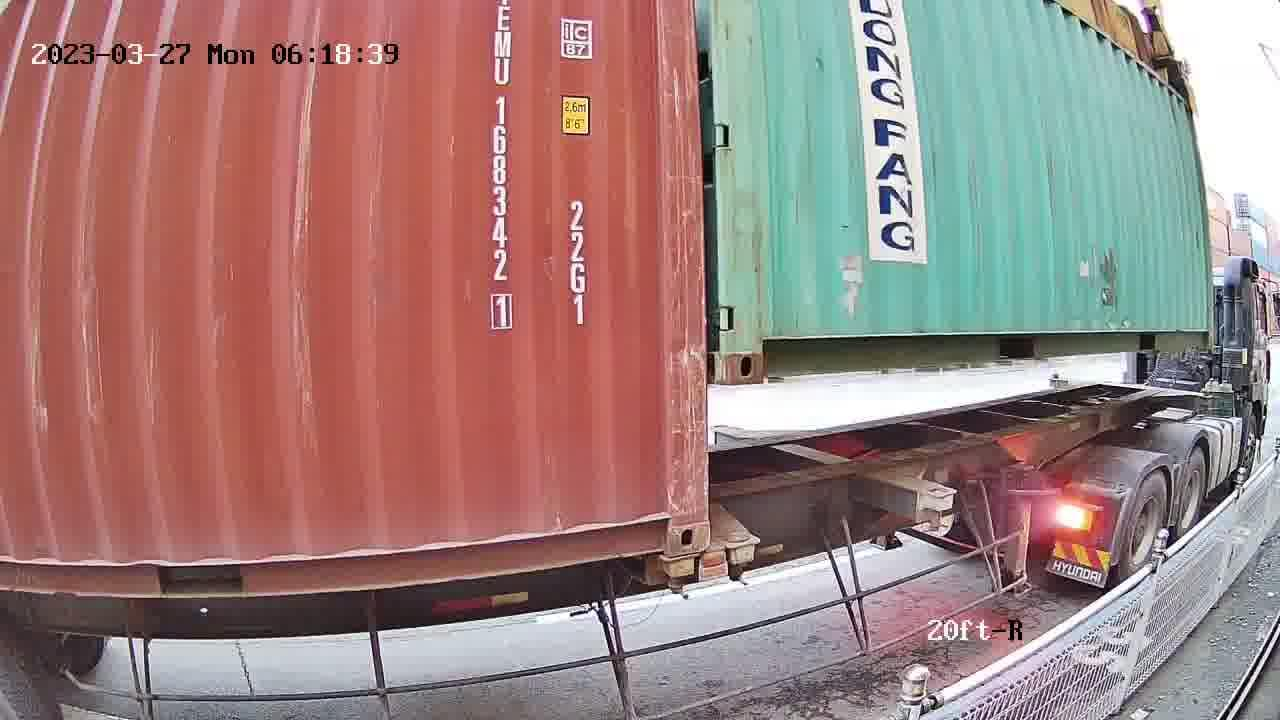Cone: (718, 532, 757, 586), (660, 555, 697, 599)
Hole_L: (718, 310, 805, 384)
Hole_R: (631, 486, 710, 555)
Tire: (1123, 472, 1168, 580), (1176, 450, 1206, 544)
